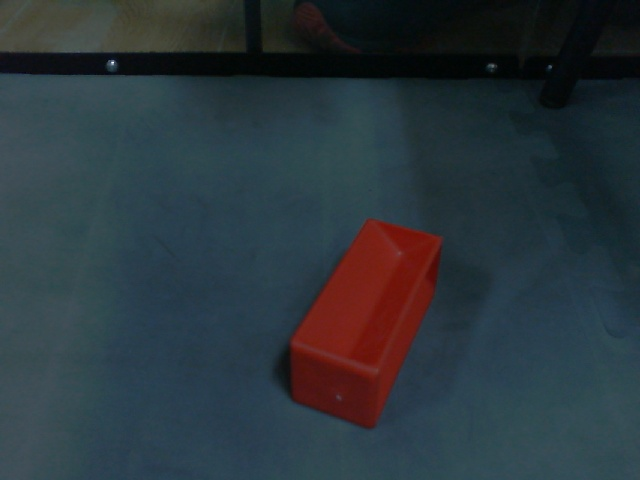RedSample: (288, 217, 444, 433)
